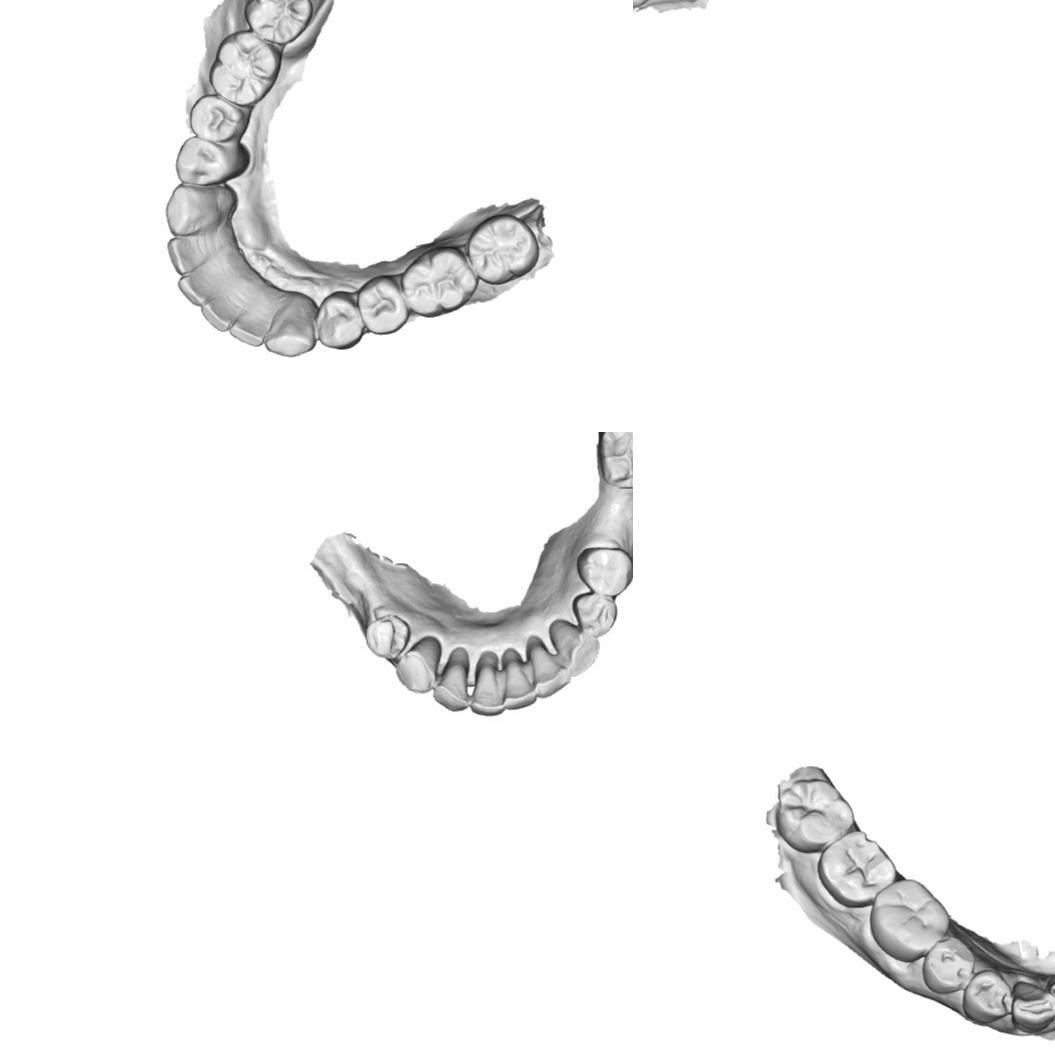canine: (163, 179, 226, 237), (261, 301, 320, 359), (549, 617, 599, 679), (392, 638, 436, 695), (1009, 978, 1055, 1032)
incisor: (530, 639, 572, 702), (466, 653, 505, 718), (429, 653, 469, 713), (501, 649, 535, 714), (167, 232, 209, 279), (201, 288, 239, 334), (173, 269, 214, 309), (230, 306, 266, 344)
molar: (867, 876, 953, 964), (815, 827, 899, 908), (775, 777, 857, 855), (209, 28, 282, 107), (401, 244, 478, 318), (467, 215, 538, 286), (242, 0, 311, 45), (595, 432, 633, 494)
premolar: (173, 136, 243, 187), (574, 540, 633, 599), (311, 288, 365, 350), (921, 935, 975, 996), (957, 967, 1011, 1026), (360, 277, 412, 335), (186, 92, 244, 142), (360, 614, 412, 660), (571, 589, 618, 638)
